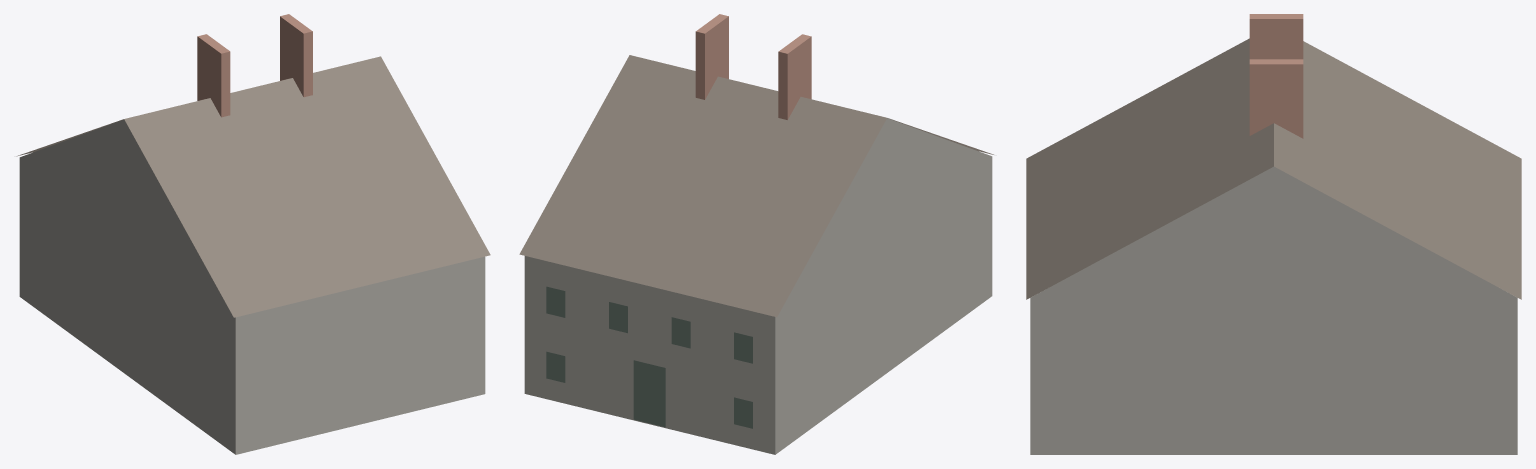
Rendered from recon_1835_north_h3_045__recommended_1835.glb.
3 renders of one model, left to right at view 1: azimuth 30°, elevation 25°; view 2: azimuth 150°, elevation 25°; view 3: azimuth 270°, elevation 25°, orthographic. The views are drawn at different scales.
Visible parts, largest first — view 1: recon_1835_north_h3_045__recommended_1835; view 2: recon_1835_north_h3_045__recommended_1835; view 3: recon_1835_north_h3_045__recommended_1835.
Boxes of the visible parts, bbox=[...] form: recon_1835_north_h3_045__recommended_1835: bbox=[16, 14, 490, 454]; recon_1835_north_h3_045__recommended_1835: bbox=[519, 14, 993, 454]; recon_1835_north_h3_045__recommended_1835: bbox=[1026, 14, 1521, 454].
Size of the model in its own units: 10.03 by 11.57 by 14.87.
